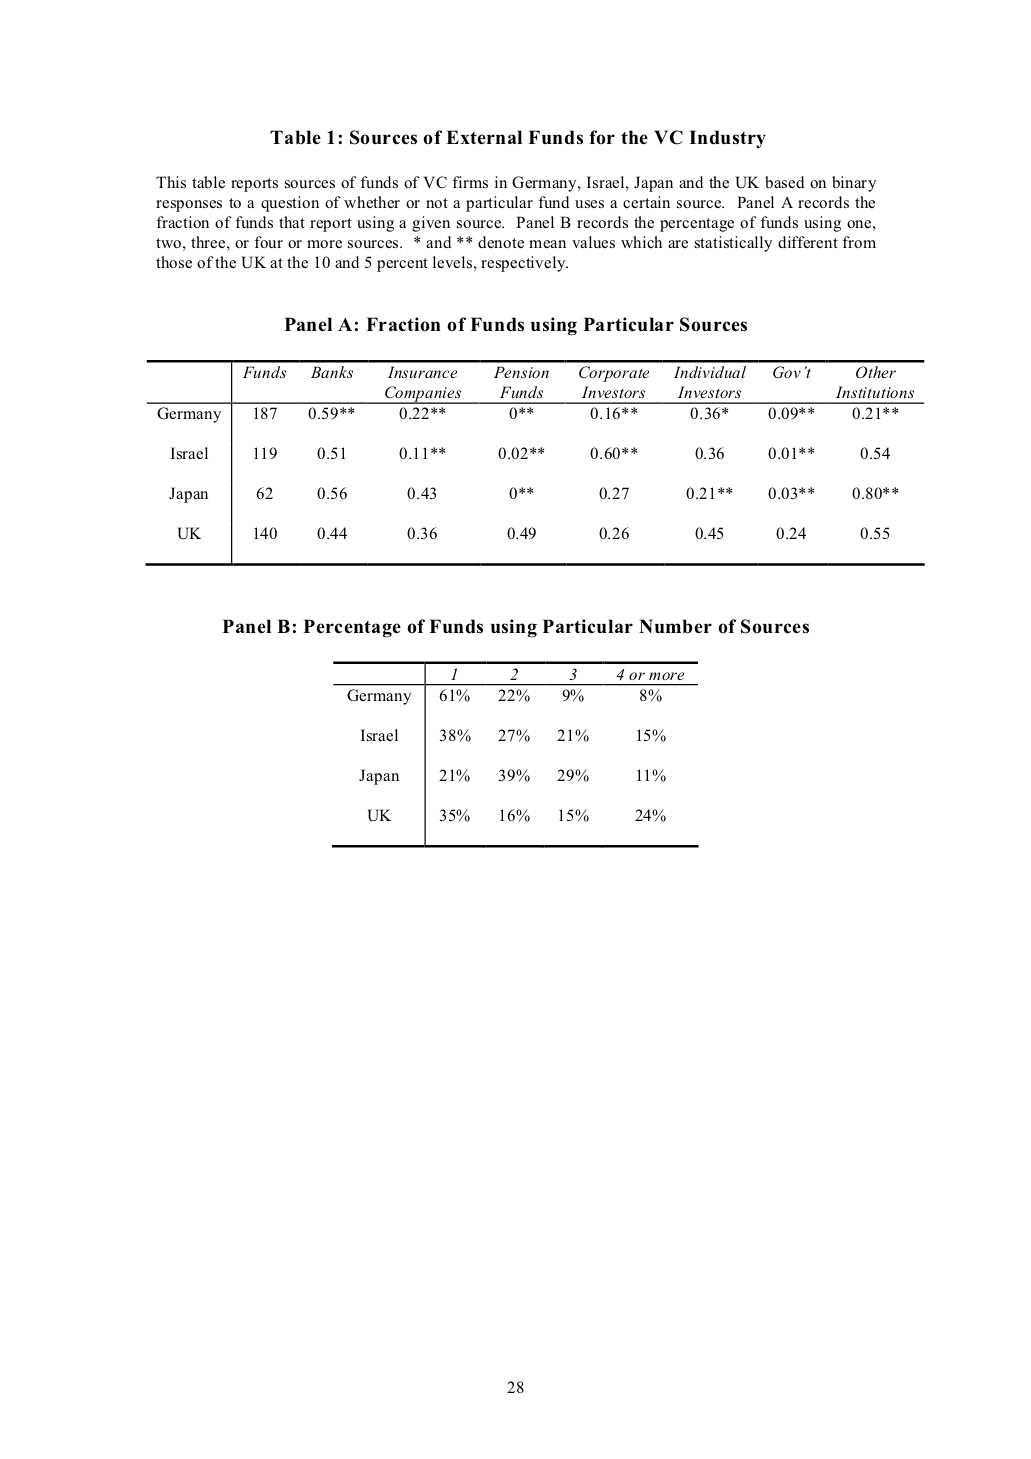Table: (145, 358, 924, 566), (333, 660, 698, 848)
